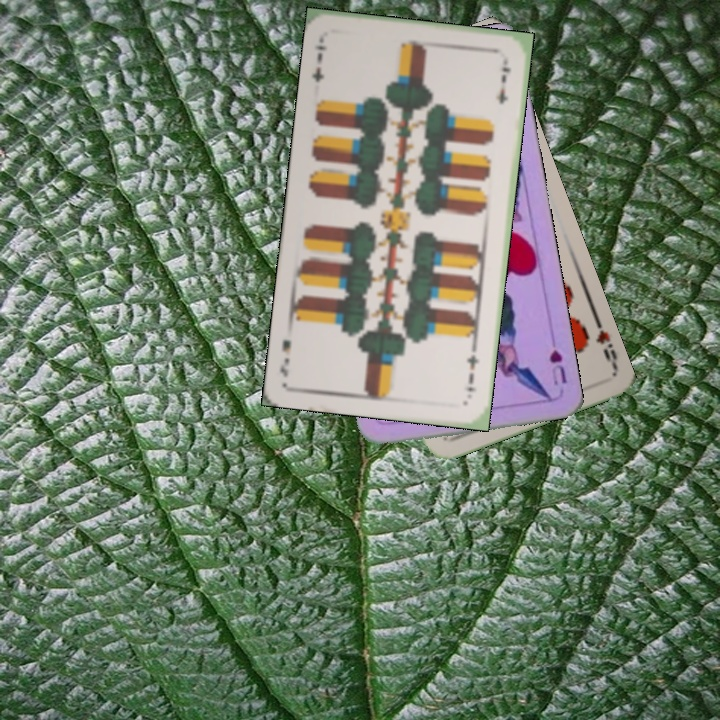E7: (461, 343, 481, 394), (308, 41, 330, 85)
H9: (590, 313, 620, 370)
HU: (545, 345, 570, 388)
